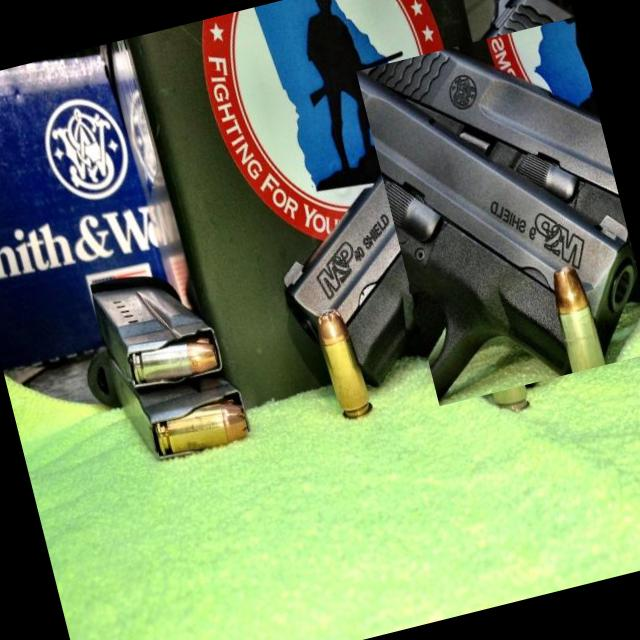Gun: (285, 0, 570, 383), (356, 71, 638, 398)
